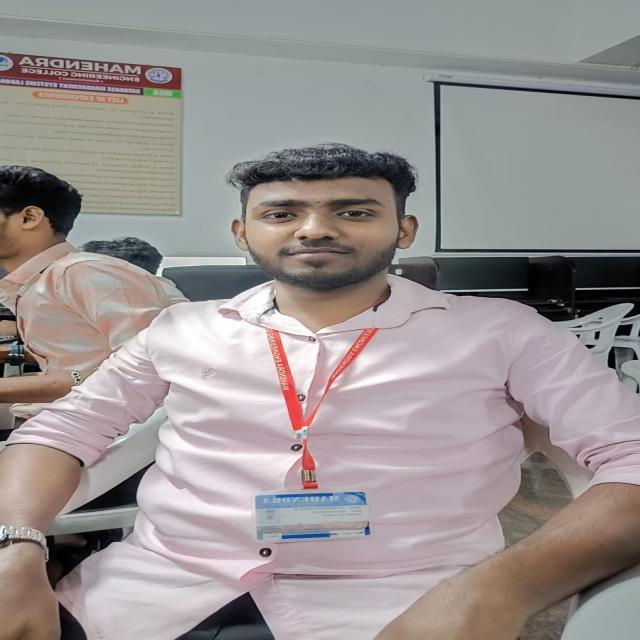id_card: (254, 308, 378, 548)
